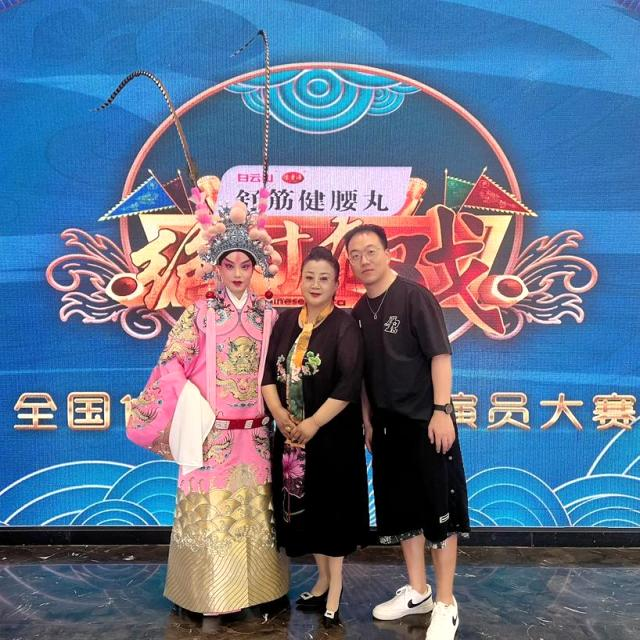Reeves-s Pheasant: (95, 70, 198, 186), (236, 29, 270, 219)
